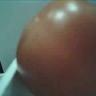tomato: (18, 1, 95, 96)
